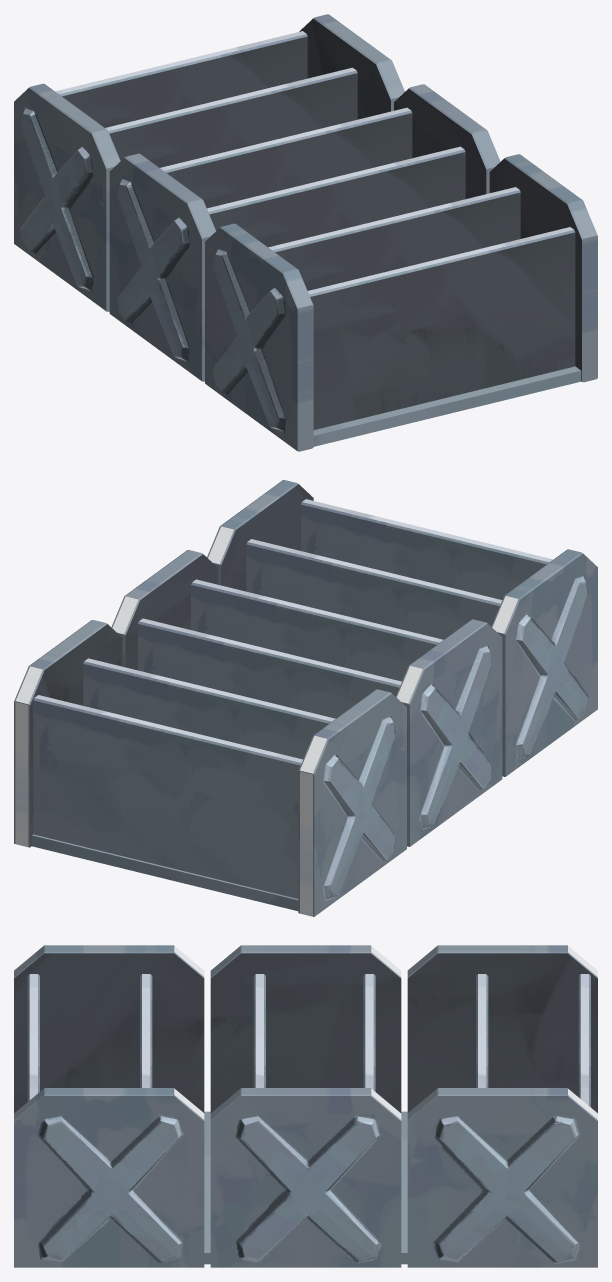
Rendered from Shelf 2_5Layer_V1.fbx.
3 renders of one model, top to bottom at view 1: azimuth 30°, elevation 25°; view 2: azimuth 150°, elevation 25°; view 3: azimuth 270°, elevation 25°, orthographic. The views are drawn at different scales.
Visible parts, largest first — view 1: Cube.017; view 2: Cube.017; view 3: Cube.017.
Boxes of the visible parts, x1=… form: Cube.017: x1=14, y1=14, x2=597, y2=451; Cube.017: x1=14, y1=480, x2=597, y2=916; Cube.017: x1=14, y1=945, x2=597, y2=1267.
Bounding box in the file's own units: 1900 × 983 × 3003.
1 material, 1 textured.
